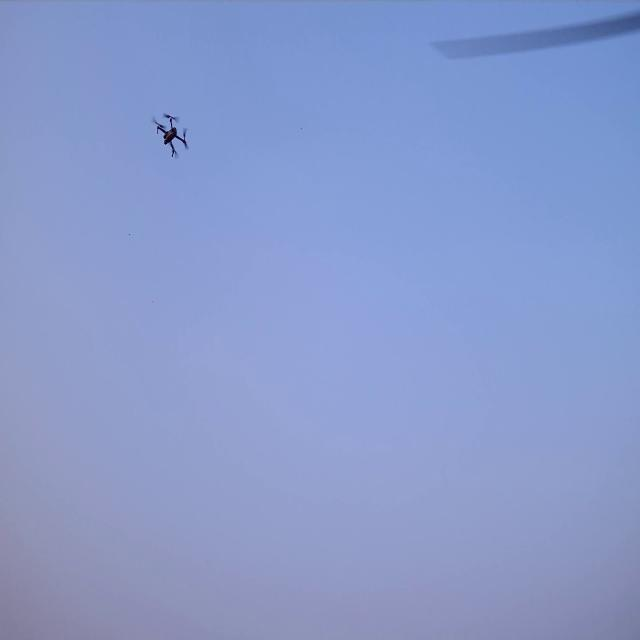UAV: (150, 109, 191, 165)
